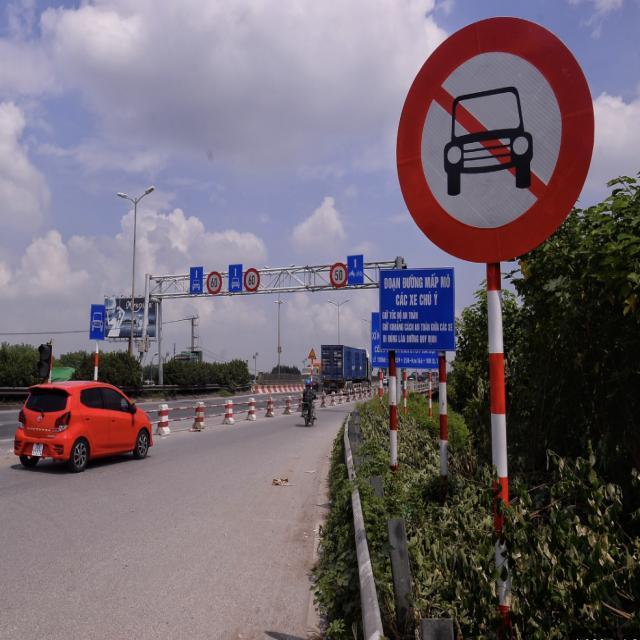103a-cam-oto: (394, 15, 594, 261)
127-toc-do-toi-da-50: (328, 264, 346, 290)
127-toc-do-toi-da-60: (243, 266, 260, 298), (206, 270, 224, 296)
